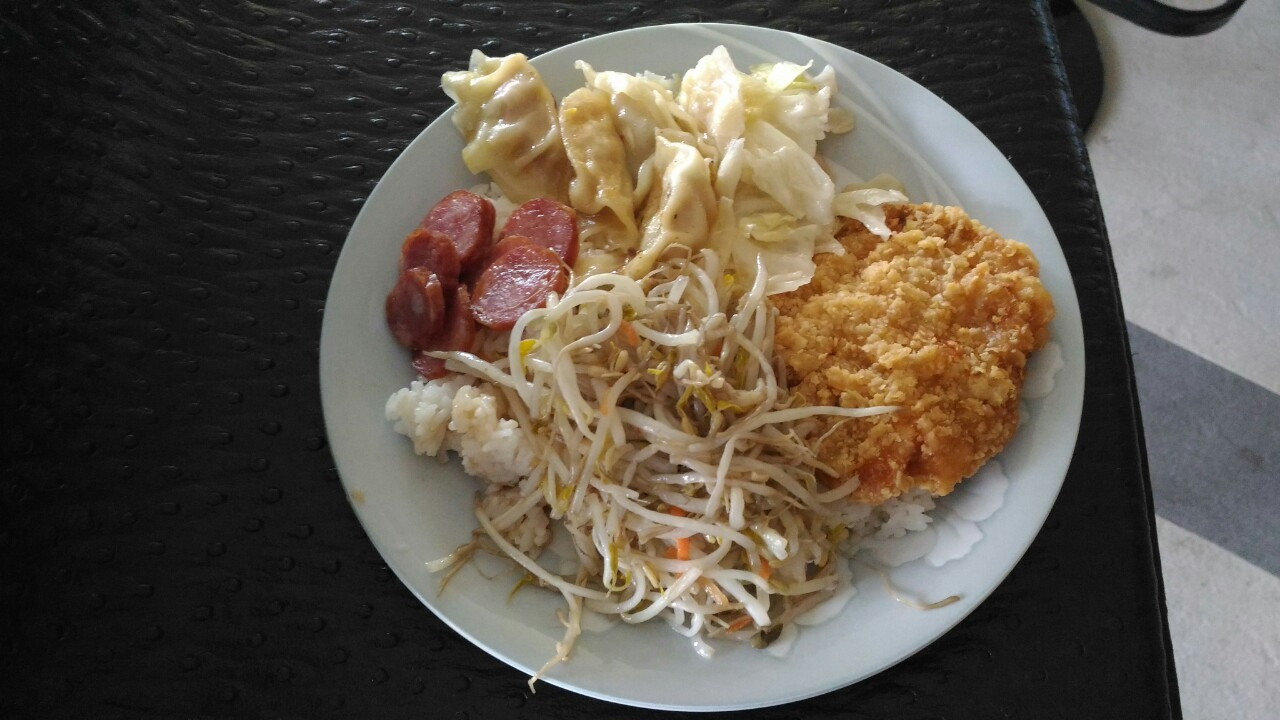chinese_cabbage: (670, 61, 858, 300)
chinese_sausage: (379, 194, 581, 361)
fried_chicken: (761, 198, 1050, 496)
fried_dumplings: (448, 50, 654, 240)
mung_bean_sprouts: (556, 312, 776, 597)
rice: (379, 368, 549, 491)
